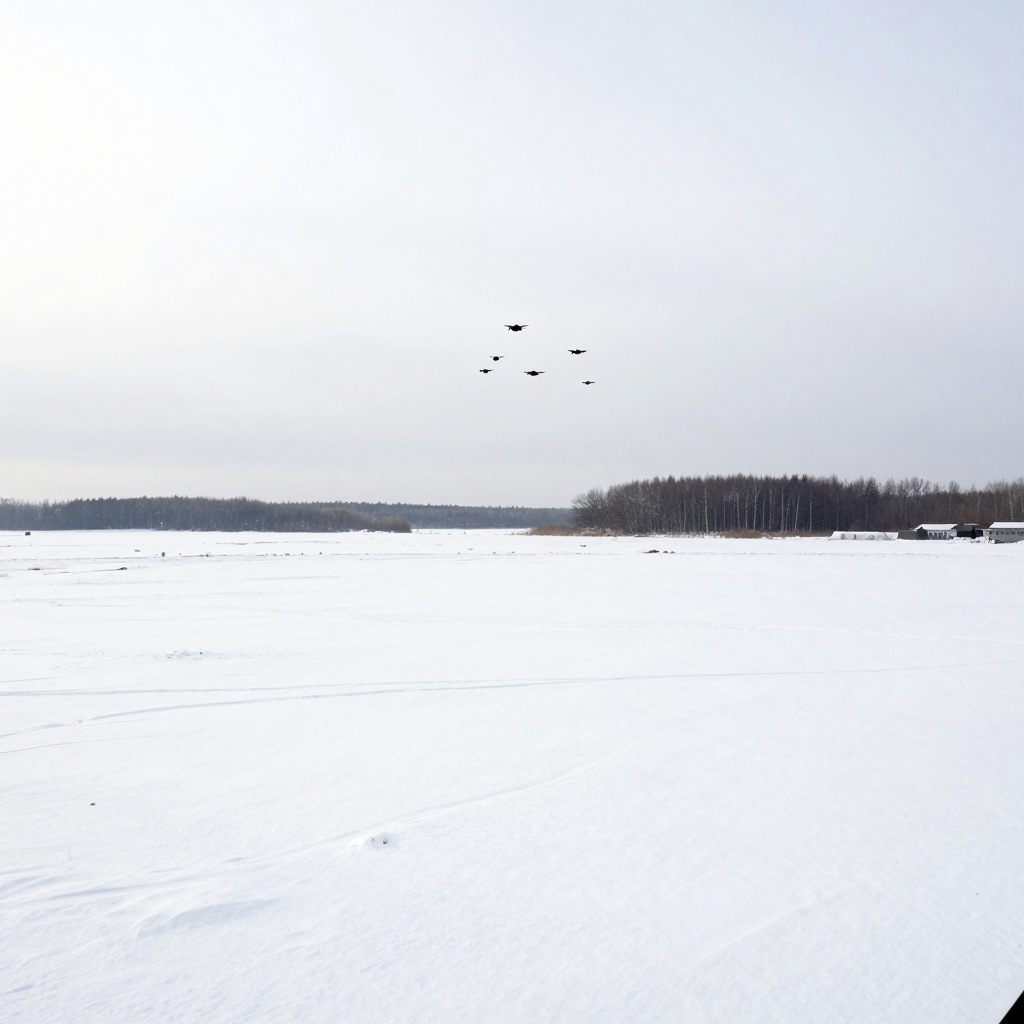drone: (504, 324, 529, 332), (523, 370, 545, 376), (567, 349, 587, 355), (489, 356, 505, 362), (479, 369, 494, 375), (582, 380, 595, 385)
